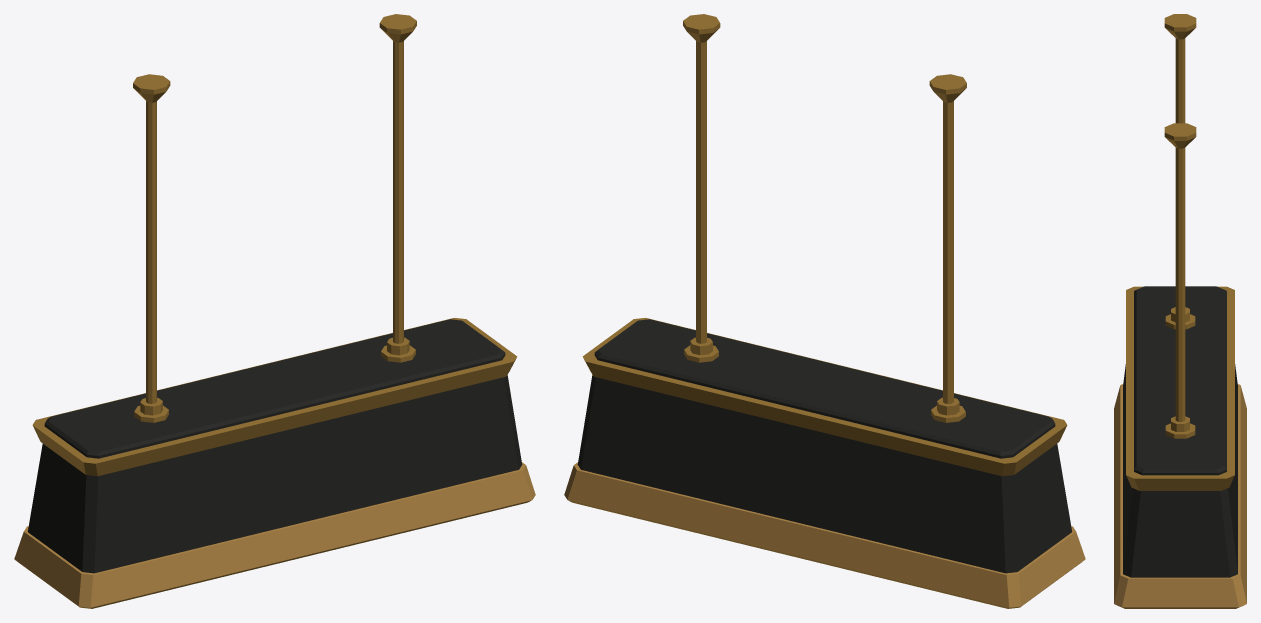
File: table-game-pendant-lamp-587680.glb
The picture shows the model from 3 angles, left to right: view 1: azimuth 30°, elevation 25°; view 2: azimuth 150°, elevation 25°; view 3: azimuth 270°, elevation 25°; orthographic projection. The views are drawn at different scales.
Parts seen in each view (by area): view 1: lamp; view 2: lamp; view 3: lamp.
Boxes of the visible parts, x1,y1,x2,y2 form: lamp: (14, 14, 535, 608); lamp: (564, 14, 1085, 608); lamp: (1114, 14, 1246, 608).
Bounding box in the file's own units: 1.8 × 1.8 × 0.5.
